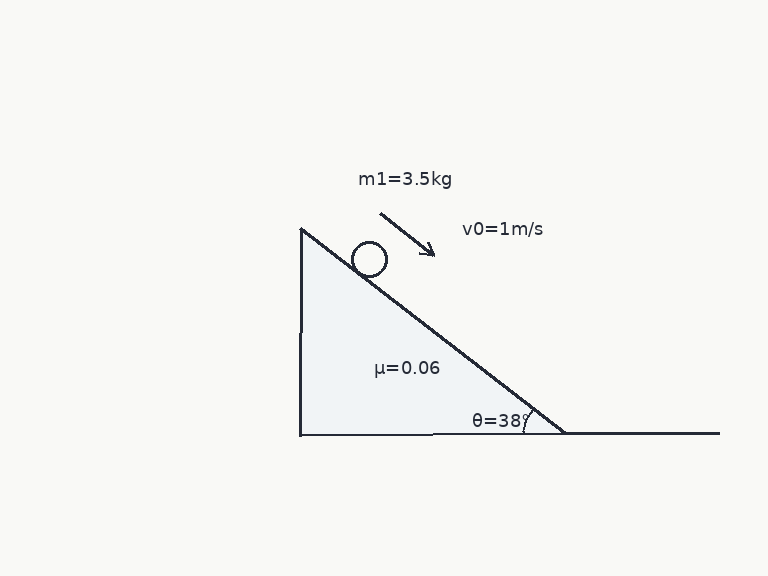ball: (349, 239, 389, 279)
ramp: (298, 226, 566, 436)
